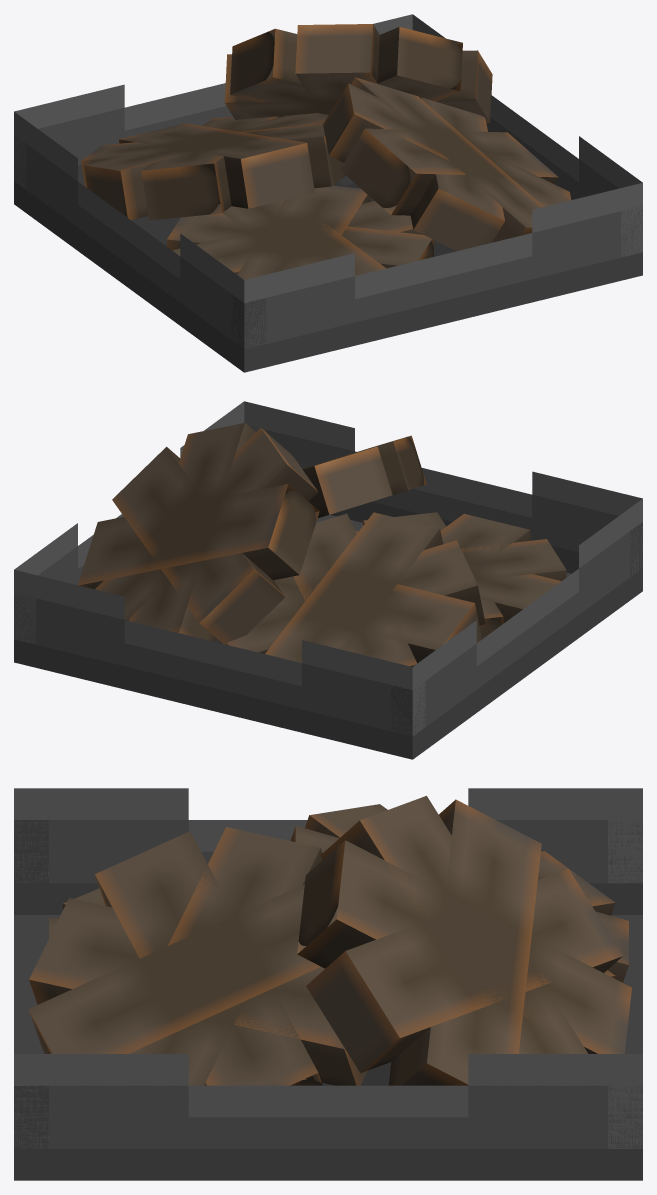
Rendered from TrayScrap1.fbx.
3 renders of one model, top to bottom at view 1: azimuth 30°, elevation 25°; view 2: azimuth 150°, elevation 25°; view 3: azimuth 270°, elevation 25°, orthographic. The views are drawn at different scales.
Parts seen in each view (by area): view 1: cube_187, cube_185, cube_188, cube_216, cube_210, cube_215, cube_214, cube_208, cube_212, cube_217, cube_213, cube_186 (+9 smaller); view 2: cube_188, cube_185, cube_187, cube_219, cube_218, cube_210, cube_220, cube_209, cube_217, cube_211, cube_212, cube_213 (+6 smaller); view 3: cube_186, cube_185, cube_218, cube_215, cube_219, cube_220, cube_216, cube_214, cube_213, cube_217, cube_184, cube_210 (+2 smaller).
Boxes of the visible parts, left/top/right/bottom form: cube_187: left=244, top=183, right=642, bottom=372; cube_185: left=14, top=112, right=244, bottom=372; cube_188: left=14, top=14, right=412, bottom=186; cube_216: left=340, top=128, right=558, bottom=215; cube_210: left=119, top=123, right=314, bottom=208; cube_215: left=351, top=77, right=543, bottom=242; cube_214: left=410, top=97, right=504, bottom=251; cube_208: left=237, top=185, right=370, bottom=279; cube_212: left=141, top=116, right=278, bottom=220; cube_217: left=295, top=24, right=379, bottom=114; cube_213: left=323, top=83, right=571, bottom=206; cube_186: left=412, top=14, right=642, bottom=199; cube_188: left=14, top=570, right=412, bottom=759; cube_185: left=412, top=499, right=642, bottom=759; cube_187: left=244, top=401, right=642, bottom=573; cube_219: left=78, top=484, right=319, bottom=589; cube_218: left=112, top=446, right=285, bottom=644; cube_210: left=265, top=512, right=442, bottom=662; cube_220: left=129, top=423, right=255, bottom=641; cube_209: left=272, top=572, right=481, bottom=666; cube_217: left=95, top=428, right=318, bottom=620; cube_211: left=293, top=513, right=416, bottom=666; cube_212: left=219, top=540, right=485, bottom=653; cube_213: left=302, top=446, right=392, bottom=517; cube_186: left=14, top=1054, right=642, bottom=1180; cube_185: left=14, top=788, right=642, bottom=914; cube_218: left=306, top=869, right=622, bottom=1073; cube_215: left=29, top=884, right=320, bottom=1053; cube_219: left=388, top=799, right=541, bottom=1085; cube_220: left=297, top=840, right=631, bottom=1053; cube_216: left=95, top=831, right=322, bottom=1085; cube_214: left=29, top=898, right=367, bottom=1085; cube_213: left=128, top=827, right=322, bottom=1085; cube_217: left=320, top=795, right=588, bottom=1053; cube_184: left=14, top=915, right=642, bottom=1085; cube_210: left=290, top=826, right=628, bottom=982.
Bounding box in the file's own units: 112 × 53.17 × 113.
